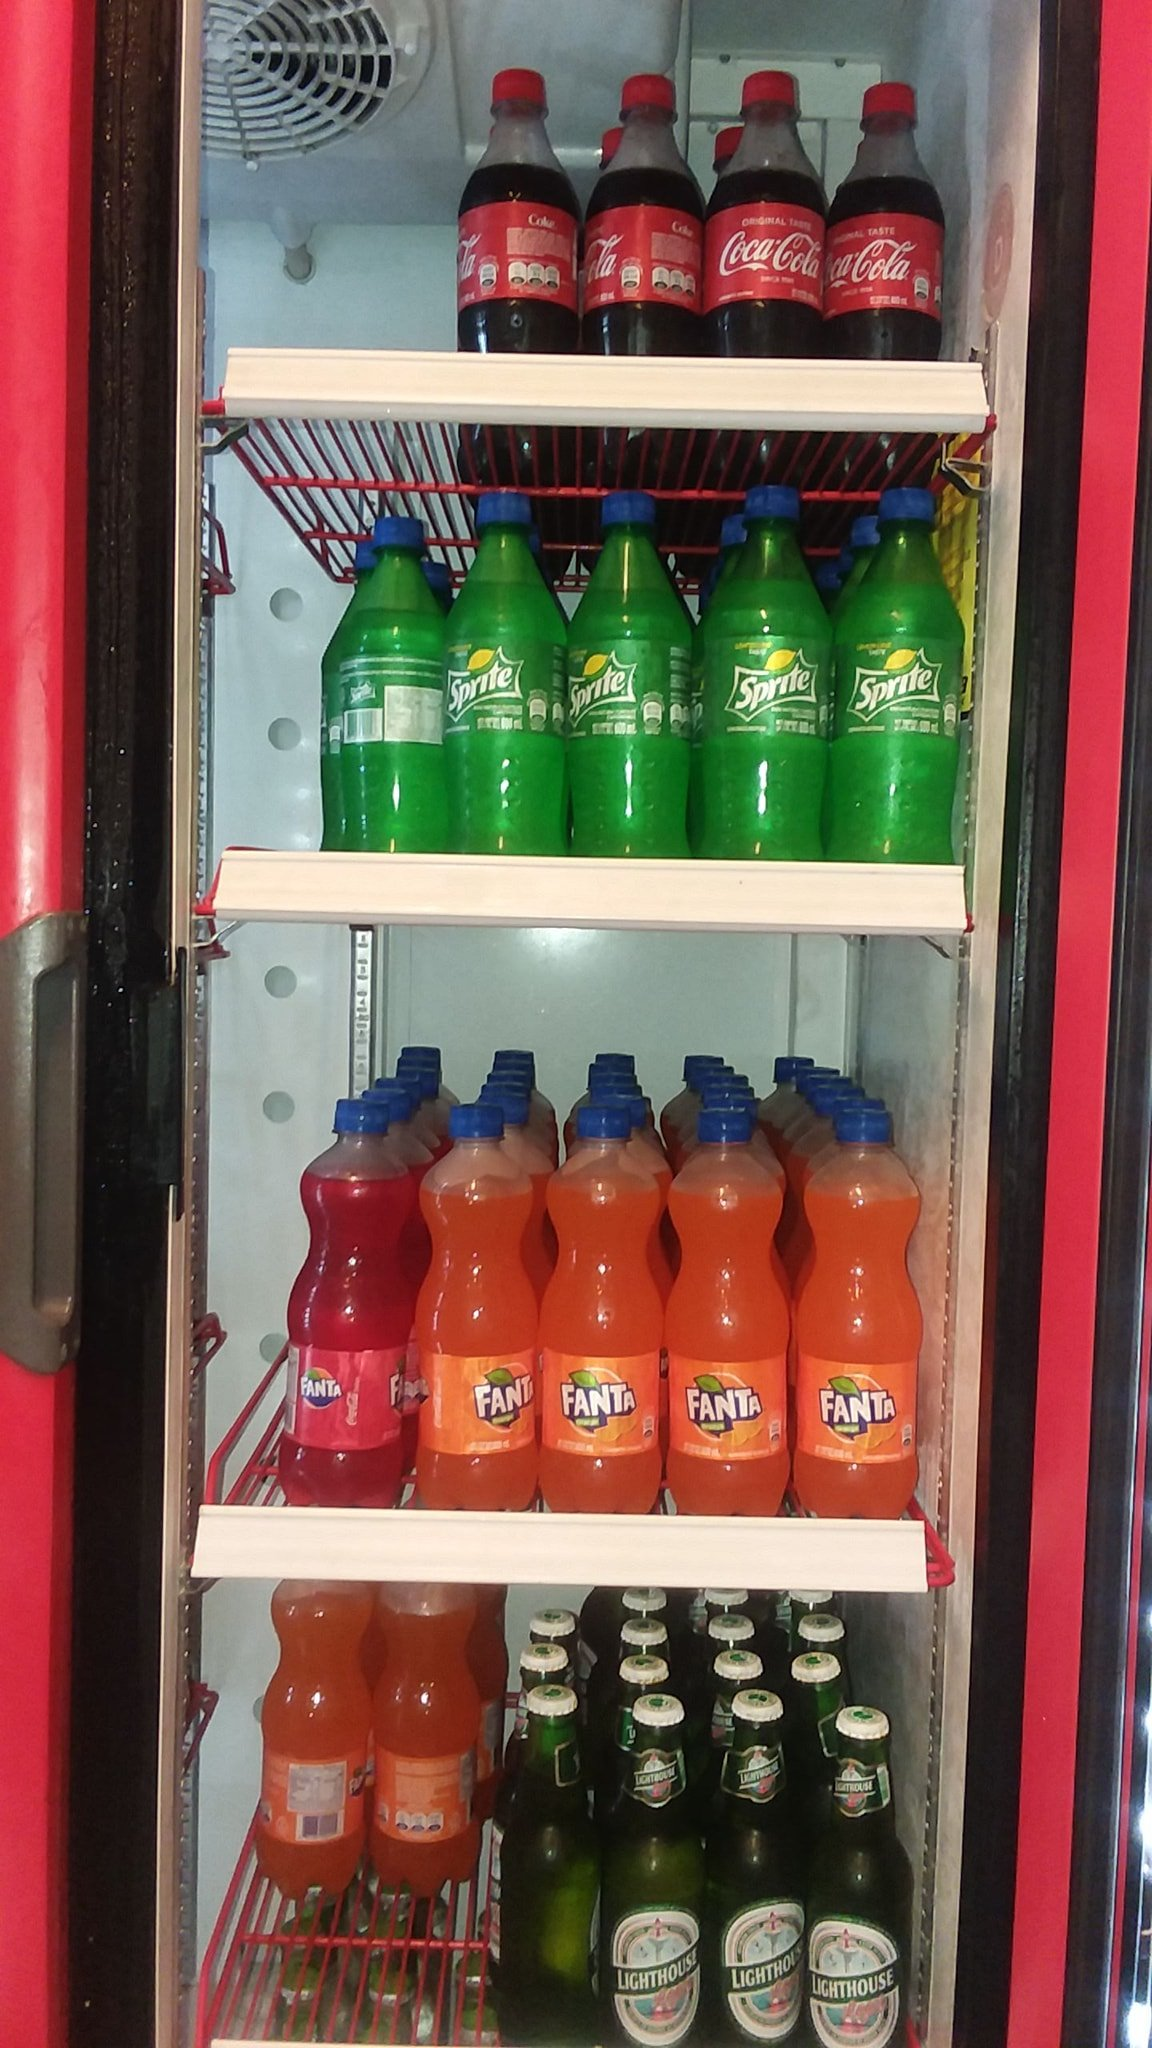cocacola: (719, 228, 821, 281)
fanta: (473, 1371, 537, 1433), (558, 1378, 639, 1426), (684, 1383, 769, 1426), (813, 1388, 897, 1428), (297, 1366, 343, 1416)
lighthouse: (617, 1919, 700, 2038), (809, 1933, 897, 2041), (729, 1914, 802, 2017)
sprite: (734, 664, 814, 715), (446, 664, 519, 715), (855, 667, 935, 712), (568, 665, 630, 717)
